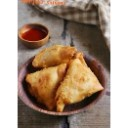samosa: (57, 55, 105, 106), (21, 63, 66, 109), (33, 44, 76, 69)
